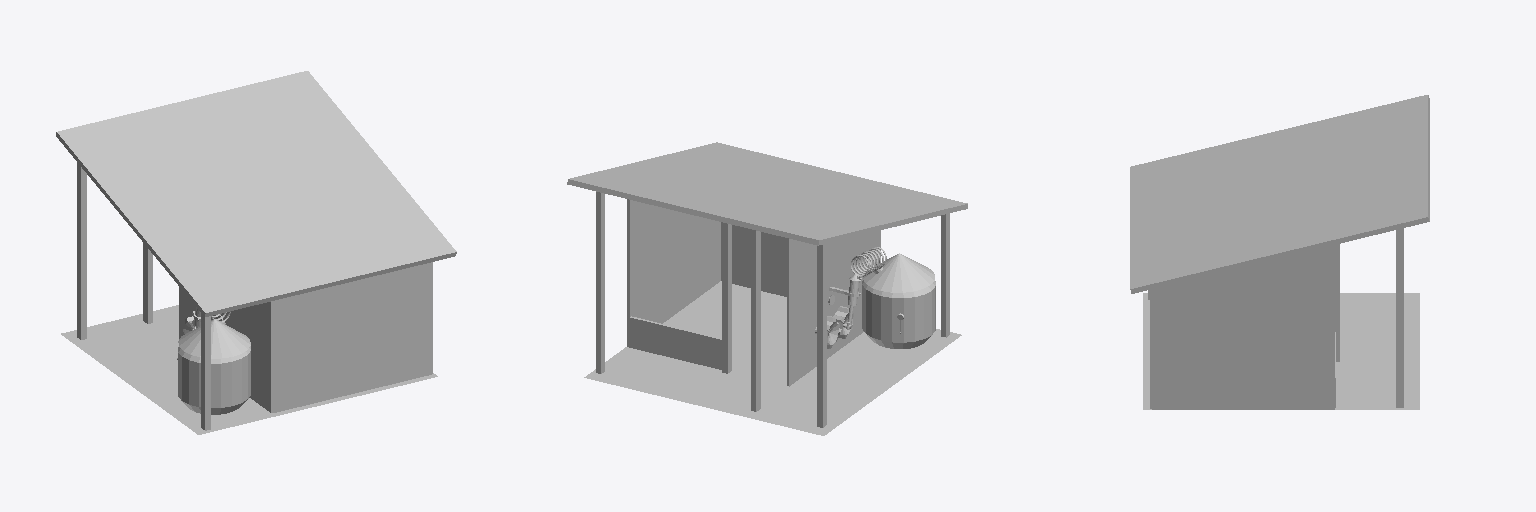
Rendered from ballsmithing.obj.
3 views of the same model, side by side, from view 1: azimuth 30°, elevation 25°; view 2: azimuth 150°, elevation 25°; view 3: azimuth 270°, elevation 25° (orthographic).
Parts seen in each view (by area): view 1: pCube13, pCube18, pPlane1, pPipe4, pCube16, pCube8, pasted__pCube8 group3, pCube6; view 2: pCube13, pPlane1, pCube3, pCube16, pPipe4, pCube5, pCube18, pCube8, pCube6, pCube7, pCube9, pasted__pCube8 group3 (+1 smaller); view 3: pCube13, pCube3, pPlane1, pCube7, pCube9.
Boxes of the visible parts, <box> form: pCube13: <box>56,71,456,316</box>; pCube18: <box>273,262,431,412</box>; pPlane1: <box>61,305,437,434</box>; pPipe4: <box>177,319,250,414</box>; pCube16: <box>179,287,272,412</box>; pCube8: <box>77,163,86,339</box>; pasted__pCube8 group3: <box>201,314,210,430</box>; pCube6: <box>143,243,152,323</box>; pCube13: <box>567,142,967,245</box>; pPlane1: <box>584,281,961,435</box>; pCube3: <box>627,199,720,346</box>; pCube16: <box>787,230,880,386</box>; pPipe4: <box>862,253,935,348</box>; pCube5: <box>629,316,721,369</box>; pCube18: <box>721,222,786,296</box>; pCube8: <box>817,244,826,427</box>; pCube6: <box>751,229,760,411</box>; pCube7: <box>596,192,604,373</box>; pCube9: <box>722,222,731,373</box>; pasted__pCube8 group3: <box>941,213,949,337</box>; pCube13: <box>1130,95,1429,293</box>; pCube3: <box>1152,245,1334,409</box>; pPlane1: <box>1143,293,1419,409</box>; pCube7: <box>1396,228,1403,407</box>; pCube9: <box>1335,244,1339,361</box>.
Size of the model in its own units: 26.25 by 20.01 by 27.02.